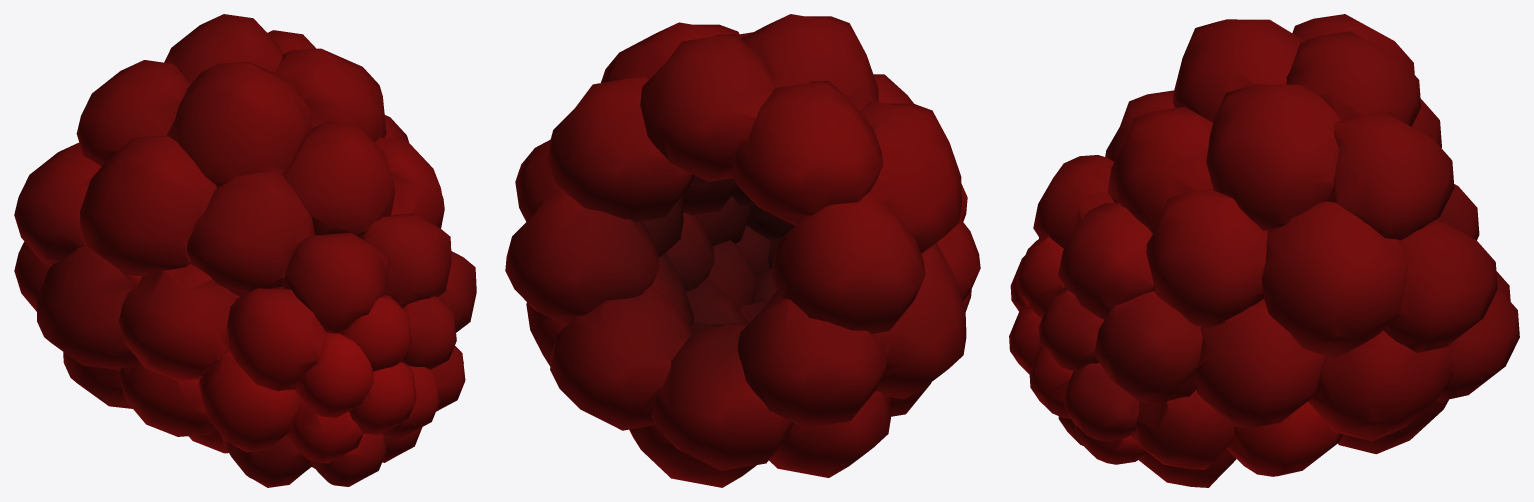
File: Raspberry.fbx
3 renders of one model, left to right at view 1: azimuth 30°, elevation 25°; view 2: azimuth 150°, elevation 25°; view 3: azimuth 270°, elevation 25°, orthographic. The views are drawn at different scales.
Visible parts, largest first — view 1: Cube.002; view 2: Cube.002; view 3: Cube.002.
Boxes of the visible parts, x1=… form: Cube.002: x1=14, y1=14, x2=476, y2=487; Cube.002: x1=505, y1=14, x2=980, y2=487; Cube.002: x1=1009, y1=14, x2=1519, y2=487.
Size of the model in its own units: 61.03 by 62.24 by 66.94.
